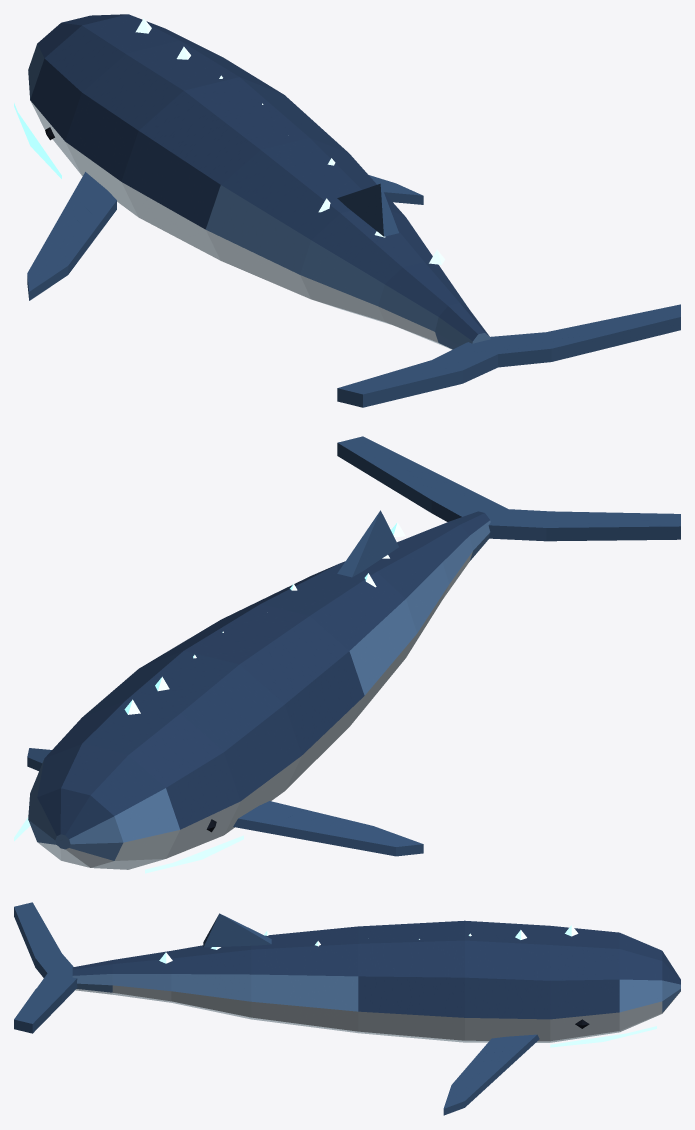
File: AT_FrostWhale.fbx
3 renders of one model, top to bottom at view 1: azimuth 30°, elevation 25°; view 2: azimuth 150°, elevation 25°; view 3: azimuth 270°, elevation 25°, orthographic. The views are drawn at different scales.
Visible parts, largest first — view 1: WhaleBody; view 2: WhaleBody; view 3: WhaleBody.
Part boxes in pixels (x1,y1,x2,y2): WhaleBody: (14,14,680,407); WhaleBody: (14,436,680,873); WhaleBody: (14,902,680,1115).
Size of the model in its own units: 6.2 by 2.74 by 12.5.
1 material, 1 textured.
